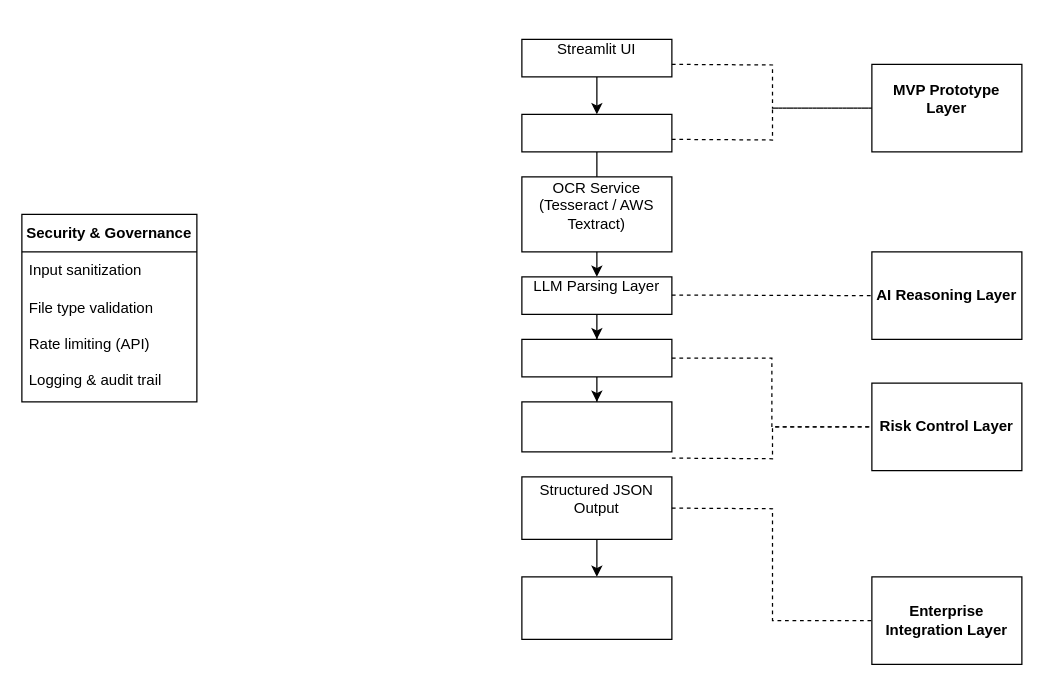
Image size: 1044x686. Some labels were removed from this diagram. Here are the shapes that lost their labels. From the top down, the centre of each, then its label:
At point 596,132: "FastAPI Gateway".
At point 596,357: "Validation Engine".
At point 596,426: "Anomaly Detection Engine".
At point 596,607: "Dashboard / API Response".
